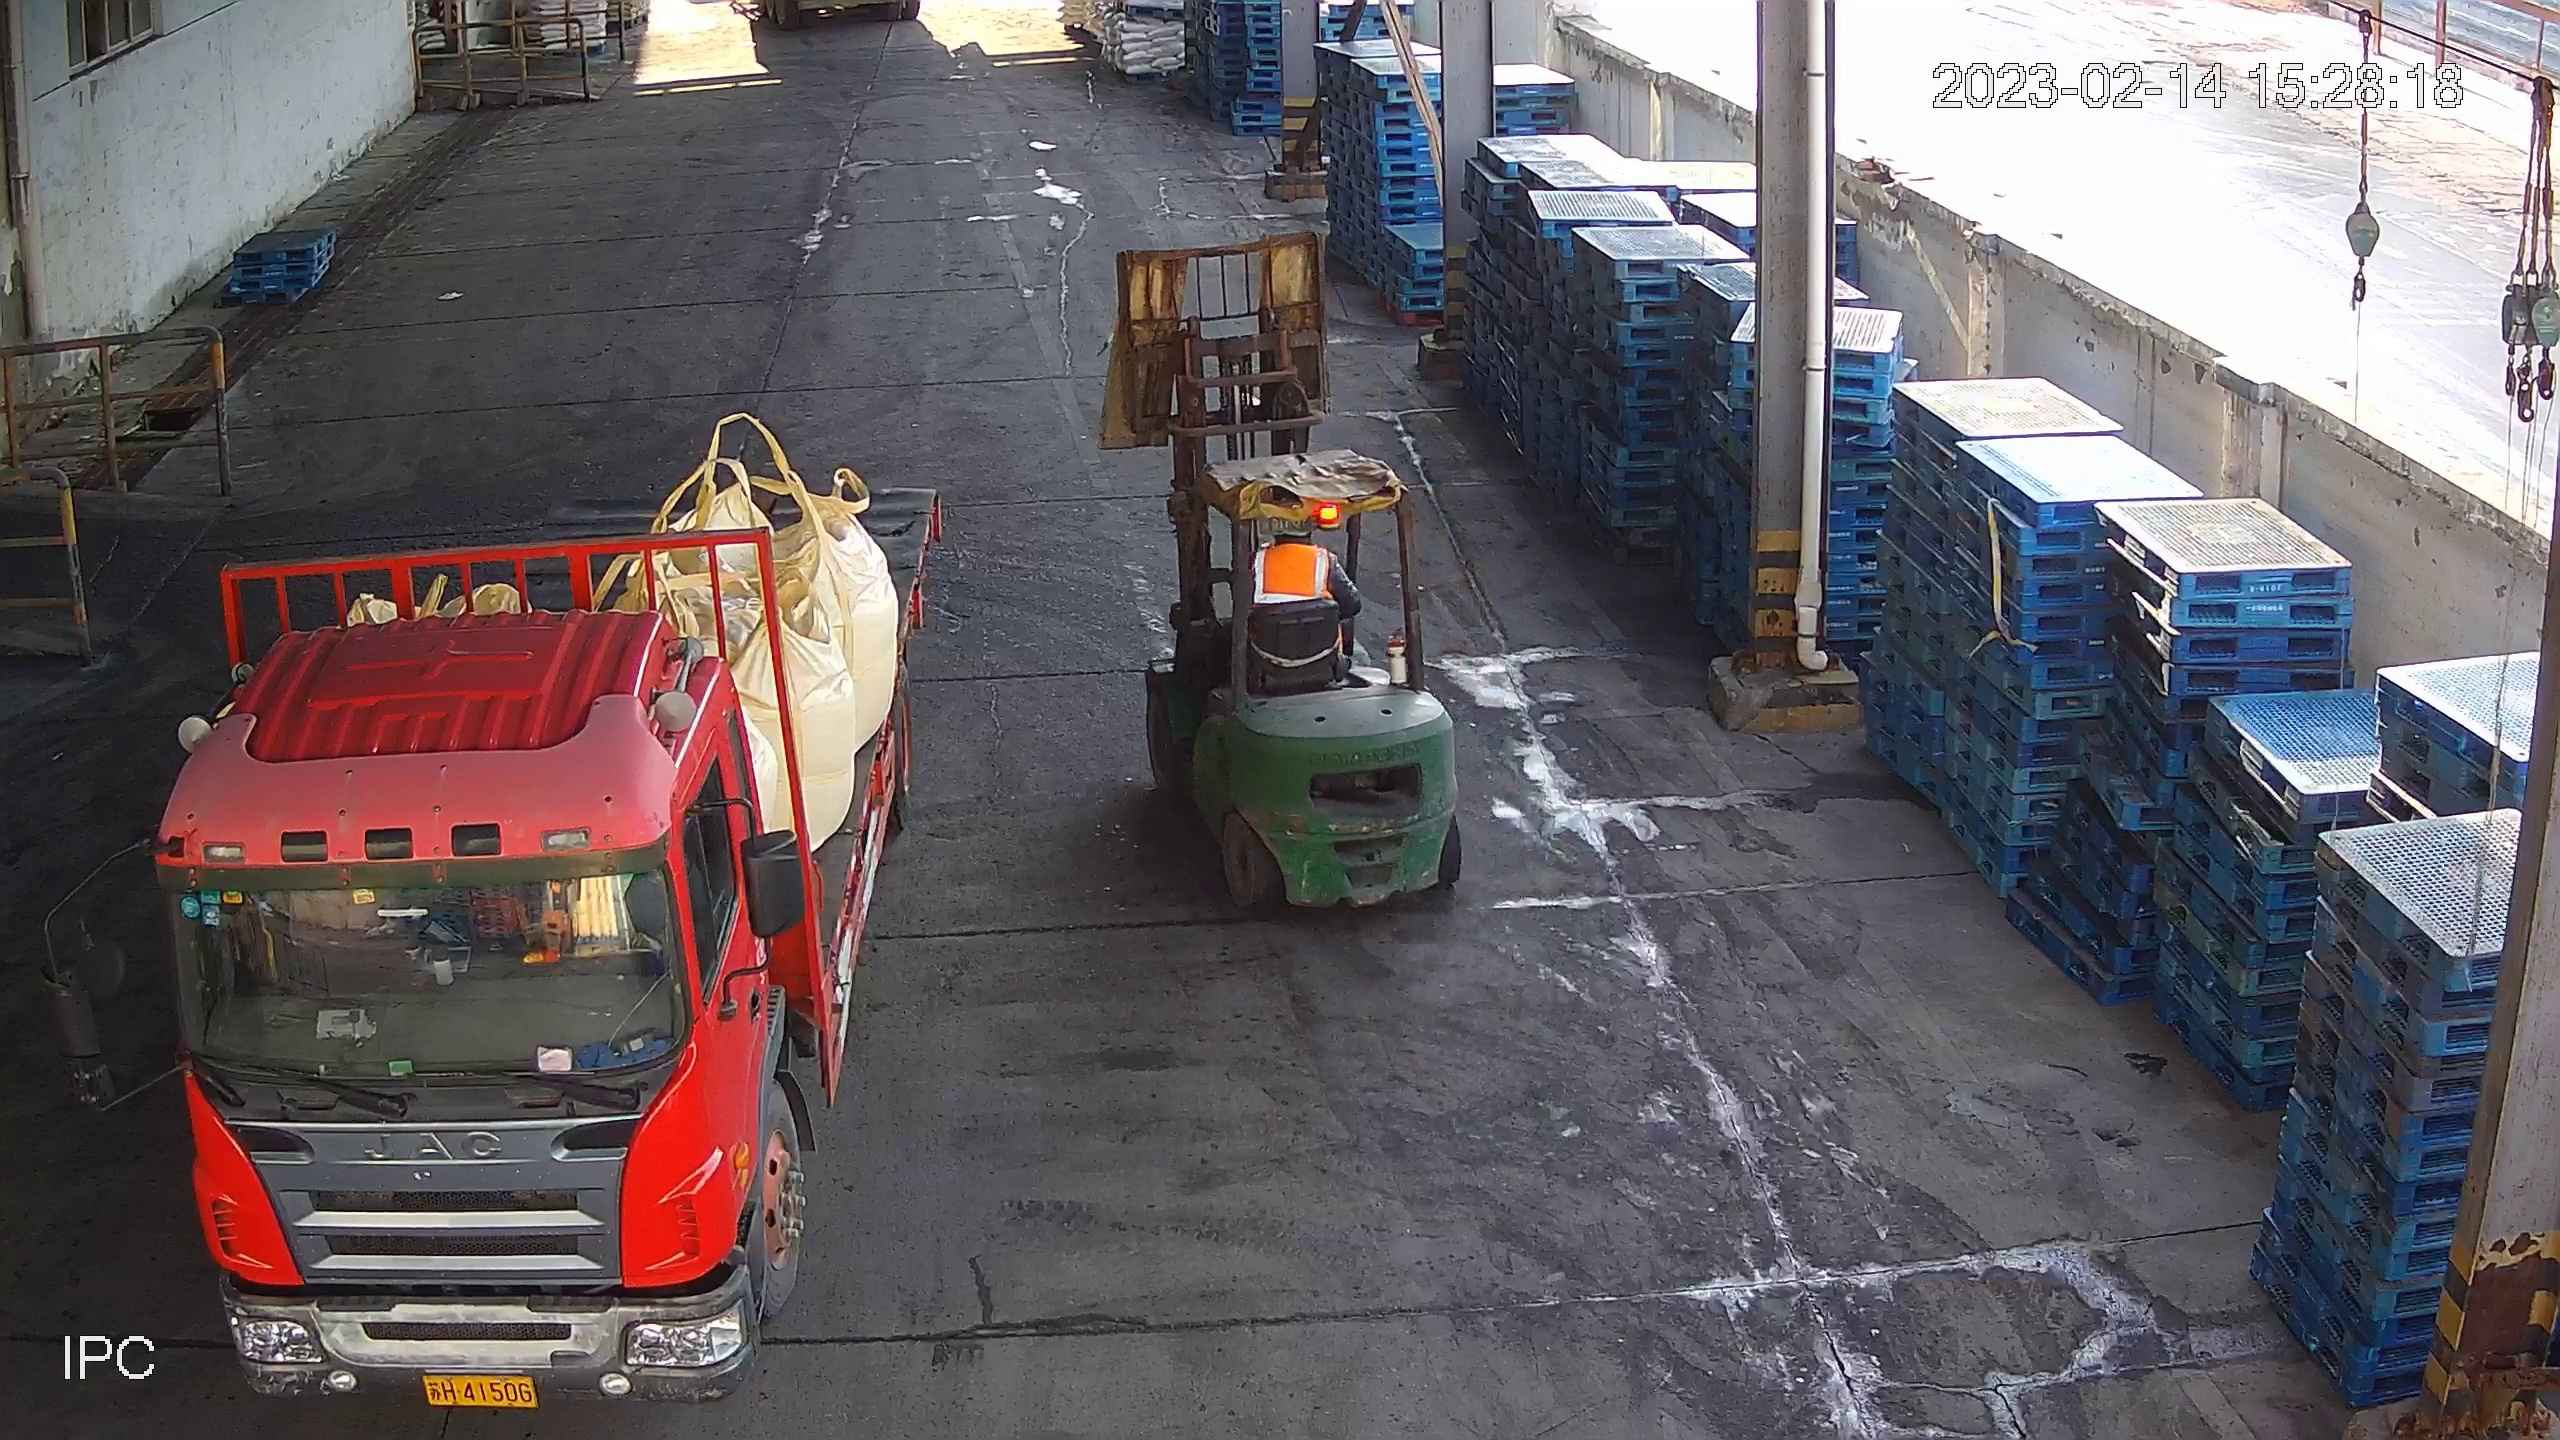truck: (46, 482, 949, 1421)
